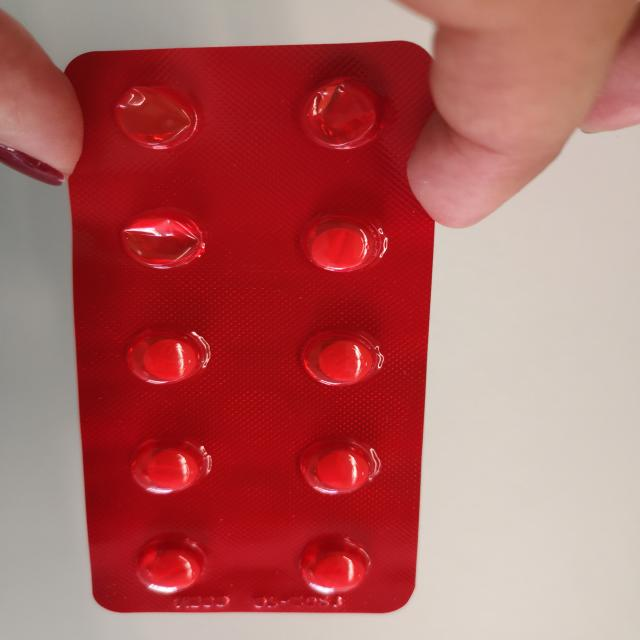Empty: (103, 76, 213, 158), (293, 69, 392, 160), (110, 202, 215, 280)
Pill: (114, 320, 219, 390), (294, 208, 392, 281), (288, 536, 379, 606), (290, 435, 387, 500), (124, 437, 223, 500), (122, 532, 206, 602), (297, 327, 383, 392)
